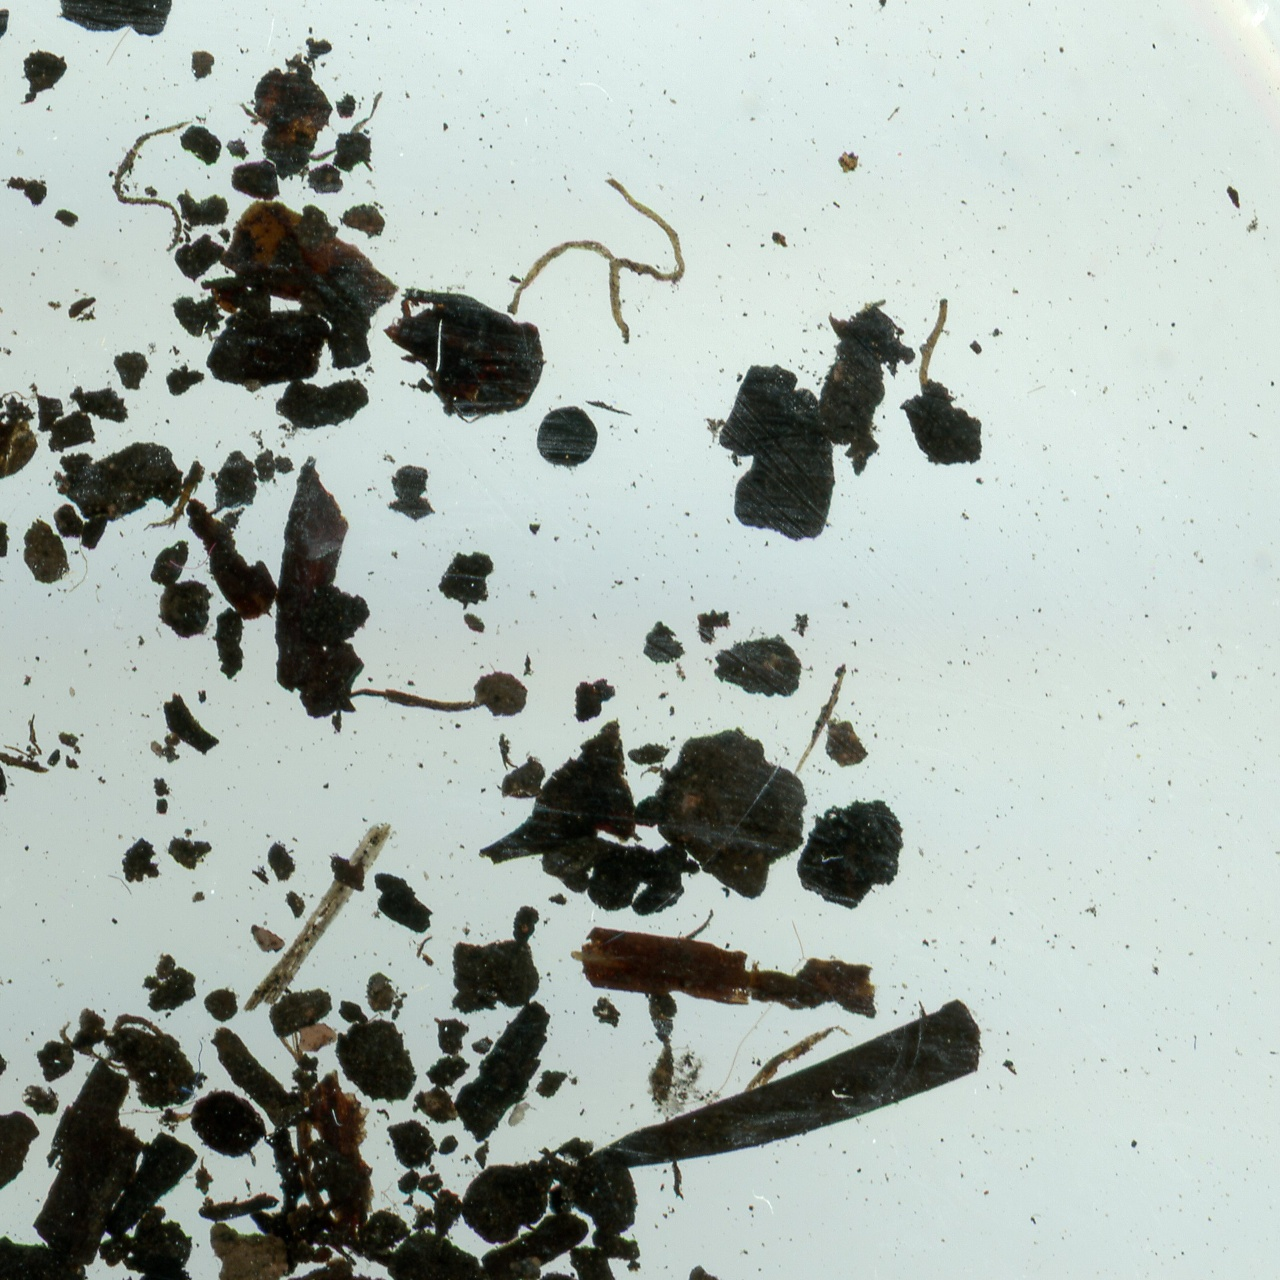arthropod: (497, 1094, 543, 1137)
